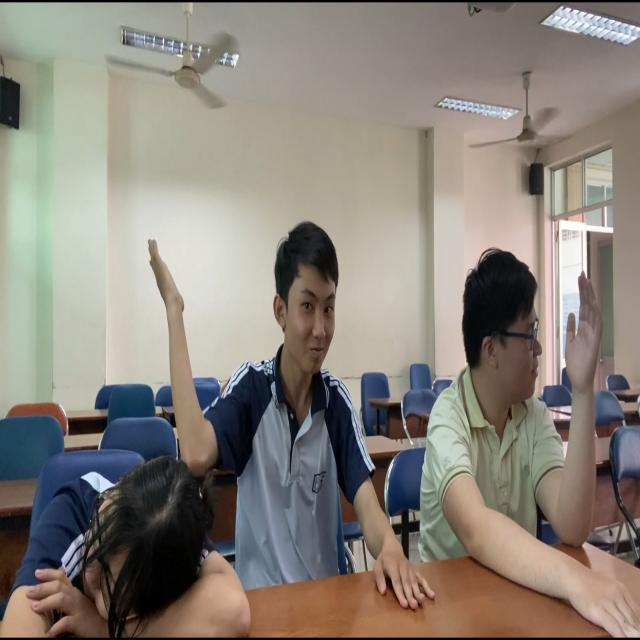raise_hand: (439, 231, 606, 627)
sleep: (1, 458, 251, 640)
